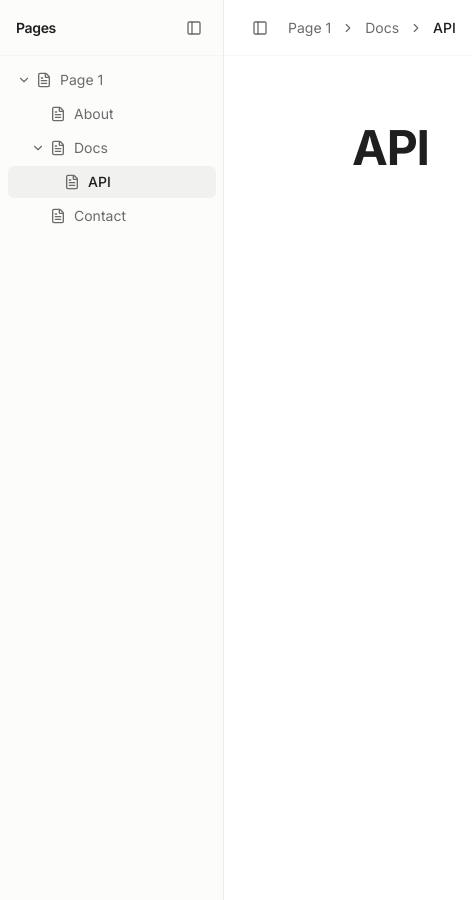
Test case: Public Navigation Sidebar › allows manual collapse and expand of parent nodes
Expected: the list item with test id "nav-item-page-api" is shown, [64,173,111,190]
Click the button named "Collapse Docs". click: (38, 148)
box: [26,136,50,160]
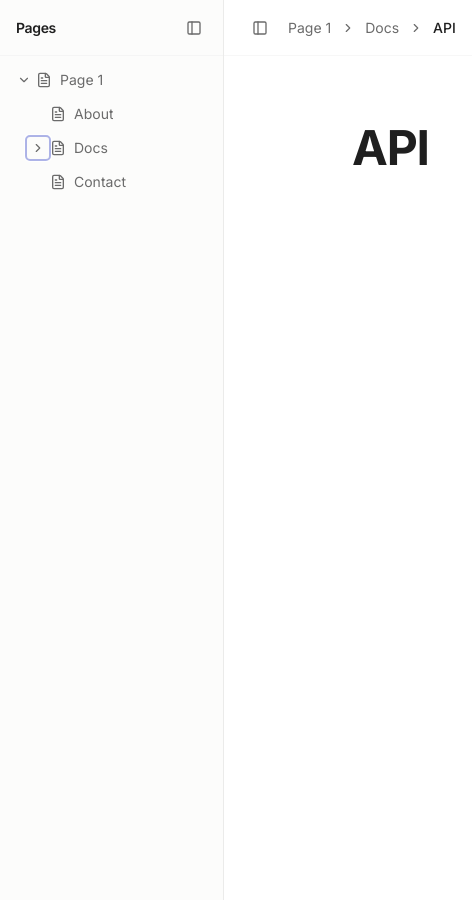
Expected: the list item with test id "nav-item-page-api" is gone
// Click expand Docs
Click the button named "Expand Docs". click: (38, 148)
box: [26,136,50,160]
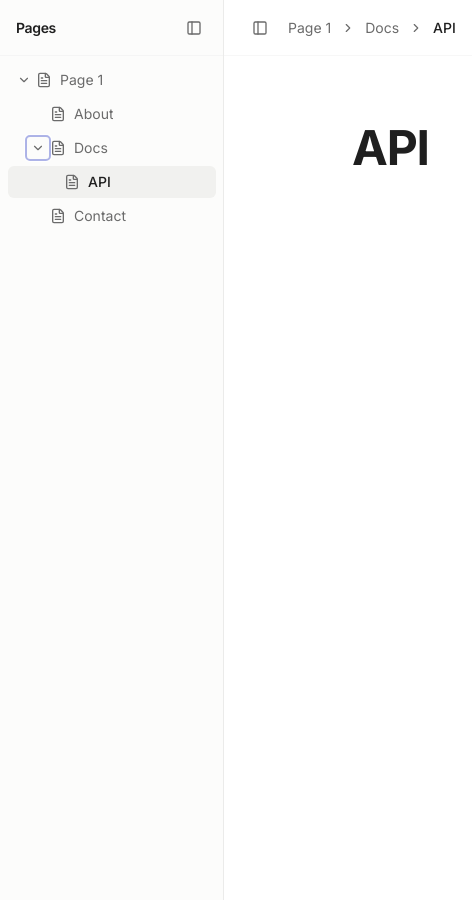
Expected: the list item with test id "nav-item-page-api" is shown, [64,173,111,190]
